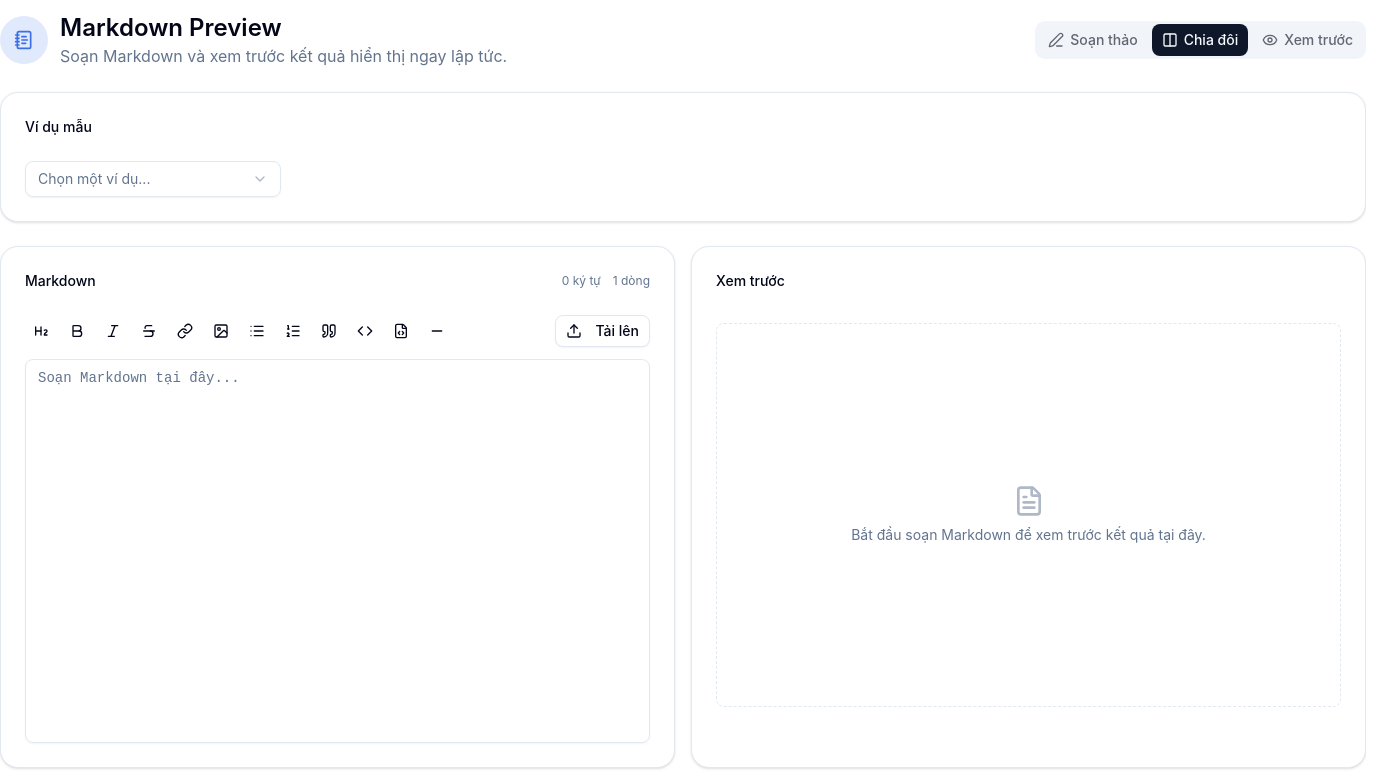
Test case: MarkdownPreviewScreen › shows only the editor in Editor mode
Click the button "Soạn thảo".
click(1093, 40)  # box x1=1038 y1=24 x2=1148 y2=56
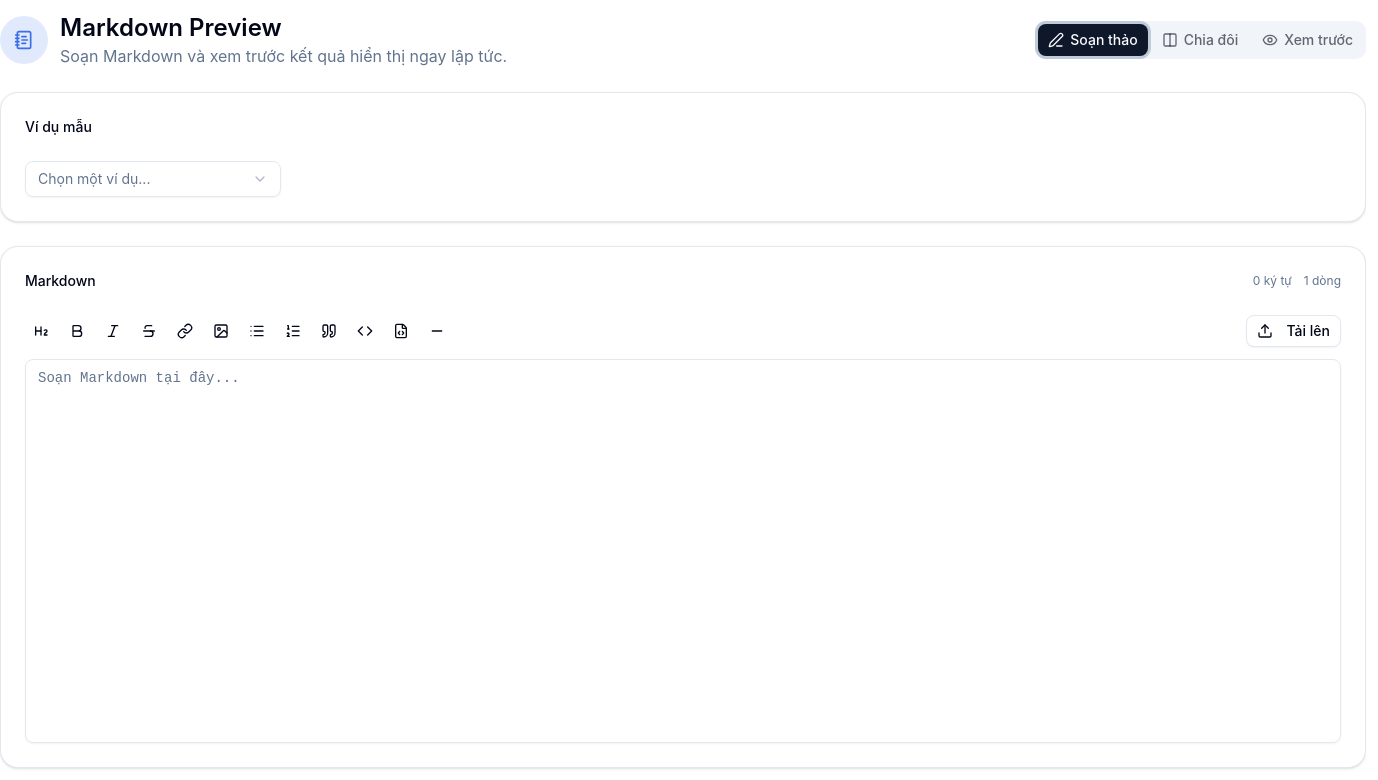
Expected: the text box labelled "Markdown" is shown, x1=25 y1=359 x2=1341 y2=743
Result: the text "Bắt đầu soạn Markdown để xem trước kết quả tại đây." is gone
